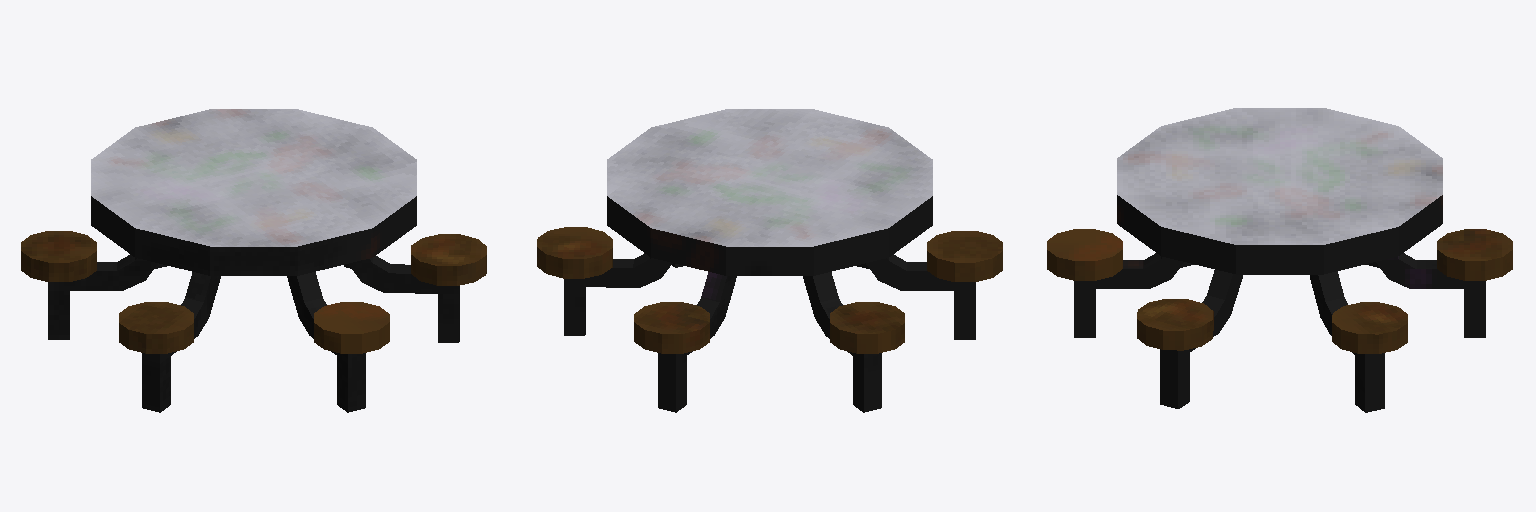
3 views of the same model, side by side, from view 1: azimuth 30°, elevation 25°; view 2: azimuth 150°, elevation 25°; view 3: azimuth 270°, elevation 25° (orthographic).
Visible parts, largest first — view 1: cylinder, cuboid; view 2: cylinder, cuboid; view 3: cylinder, cuboid.
Boxes of the visible parts, x1,y1,x2,y2 form: cylinder: [91, 109, 416, 275]; cuboid: [21, 231, 486, 412]; cylinder: [607, 109, 932, 275]; cuboid: [537, 227, 1002, 412]; cylinder: [1117, 108, 1442, 274]; cuboid: [1047, 229, 1512, 412].
Bounding box in the file's own units: 2.41 × 1 × 2.69.
Materials: 1 (1 with a texture image).